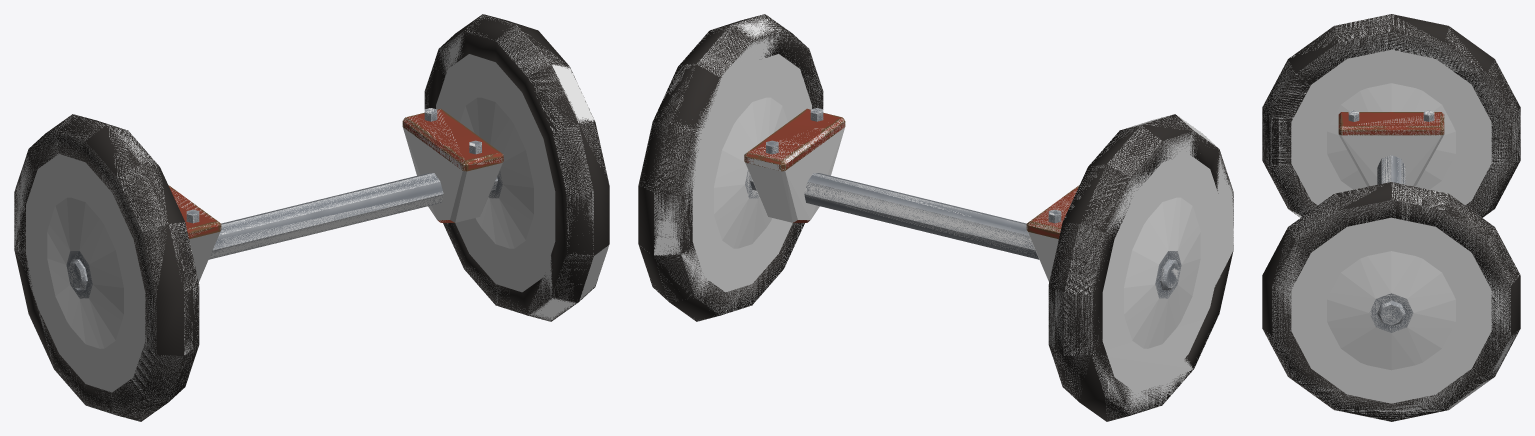
File: wheel_axle.glb
3 views of the same model, side by side, from view 1: azimuth 30°, elevation 25°; view 2: azimuth 150°, elevation 25°; view 3: azimuth 270°, elevation 25° (orthographic). The views are drawn at different scales.
Visible parts, largest first — view 1: tyre_left, COL_wheel_axle_03, tyre_right, COL_wheel_axle_02, COL_wheel_axle_01, axle, COL_wheel_axle_00, COL_wheel_axle_05, COL_wheel_axle_04, bearing_right, bearing_left, COL_wheel_axle_06; view 2: COL_wheel_axle_03, tyre_left, COL_wheel_axle_02, tyre_right, COL_wheel_axle_01, axle, COL_wheel_axle_00, COL_wheel_axle_05, COL_wheel_axle_04, bearing_right, COL_wheel_axle_06, bearing_left; view 3: COL_wheel_axle_02, COL_wheel_axle_03, tyre_right, tyre_left, COL_wheel_axle_00, COL_wheel_axle_01, COL_wheel_axle_06, bearing_left, axle, wheel_right, COL_wheel_axle_04.
Part boxes in pixels (x1,y1,x2,y2): tyre_left: [14, 114, 199, 421]; COL_wheel_axle_03: [14, 114, 199, 420]; tyre_right: [424, 14, 609, 321]; COL_wheel_axle_02: [425, 14, 608, 321]; COL_wheel_axle_01: [47, 197, 123, 348]; axle: [68, 173, 497, 290]; COL_wheel_axle_00: [460, 97, 533, 248]; COL_wheel_axle_05: [403, 109, 502, 222]; COL_wheel_axle_04: [68, 173, 497, 289]; bearing_right: [402, 108, 503, 222]; bearing_left: [168, 185, 221, 239]; COL_wheel_axle_06: [170, 187, 220, 282]; COL_wheel_axle_03: [1048, 115, 1233, 419]; tyre_left: [1048, 114, 1233, 421]; COL_wheel_axle_02: [639, 14, 823, 321]; tyre_right: [638, 14, 823, 321]; COL_wheel_axle_01: [1124, 197, 1200, 348]; axle: [750, 173, 1179, 290]; COL_wheel_axle_00: [714, 97, 787, 248]; COL_wheel_axle_05: [744, 118, 844, 222]; COL_wheel_axle_04: [750, 173, 1179, 289]; bearing_right: [744, 108, 845, 222]; COL_wheel_axle_06: [1027, 186, 1078, 282]; bearing_left: [1026, 185, 1079, 239]; COL_wheel_axle_02: [1264, 182, 1520, 421]; COL_wheel_axle_03: [1262, 14, 1520, 217]; tyre_right: [1262, 182, 1520, 421]; tyre_left: [1262, 14, 1520, 217]; COL_wheel_axle_00: [1327, 251, 1455, 370]; COL_wheel_axle_01: [1327, 83, 1455, 189]; COL_wheel_axle_06: [1338, 113, 1444, 186]; bearing_left: [1338, 112, 1444, 135]; axle: [1377, 155, 1405, 326]; wheel_right: [1369, 293, 1413, 332]; COL_wheel_axle_04: [1377, 155, 1405, 325].
Bounding box in the file's own units: 1.04 × 0.6 × 0.585.
3 materials, 3 textured.
